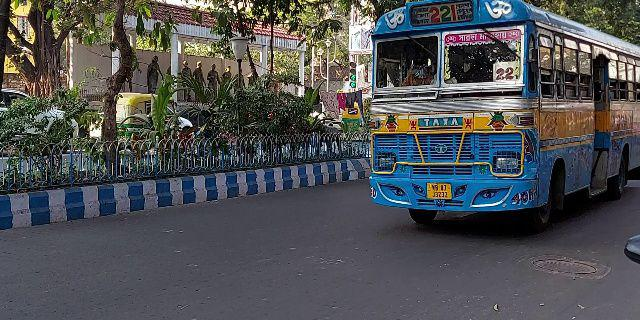Bus: (361, 1, 640, 224)
